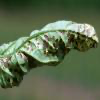Tomato leaf bacterial spot: (1, 19, 99, 90)
